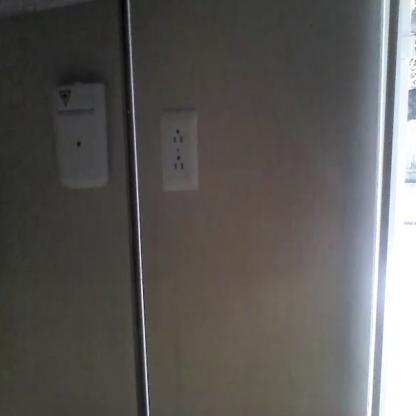OUTLET: (158, 110, 198, 192)
